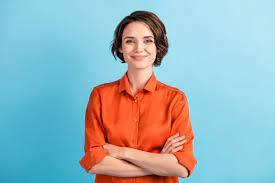Persons: (104, 8, 177, 83)
